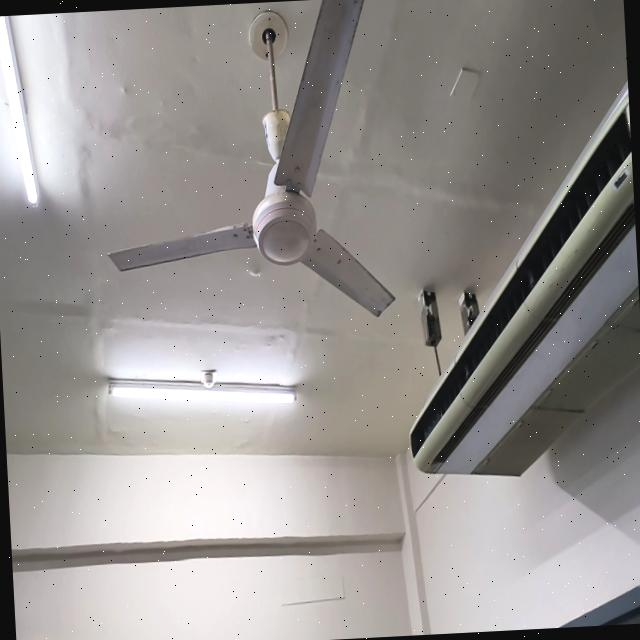Ac: (410, 90, 640, 475)
Light: (0, 16, 39, 205), (108, 379, 296, 403)
